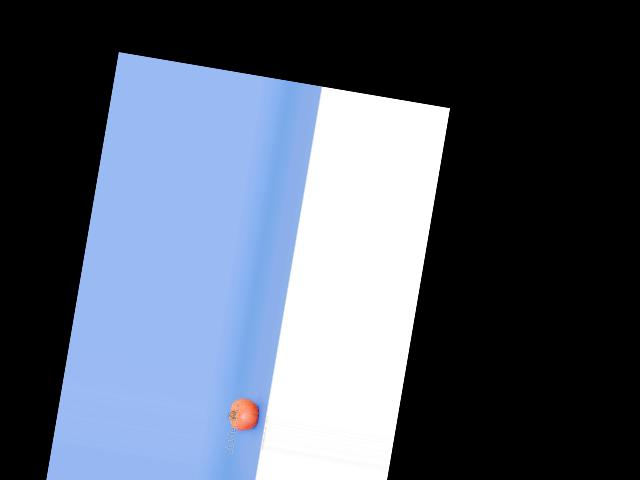tomato: (227, 395, 261, 432)
